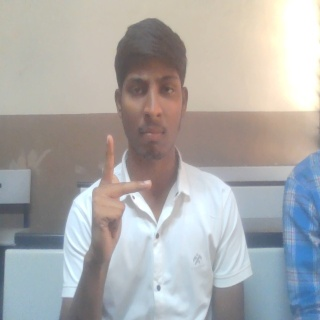Face: (114, 17, 190, 162)
Okay: (88, 134, 153, 258)
